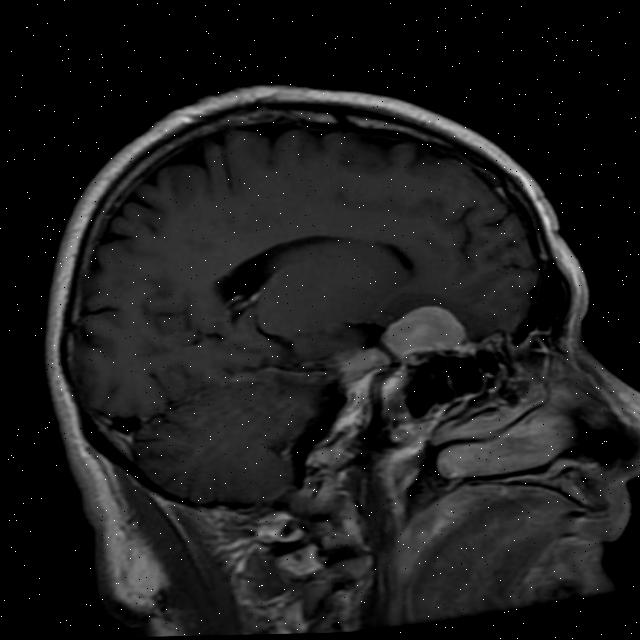Meningioma: (378, 299, 468, 360)
